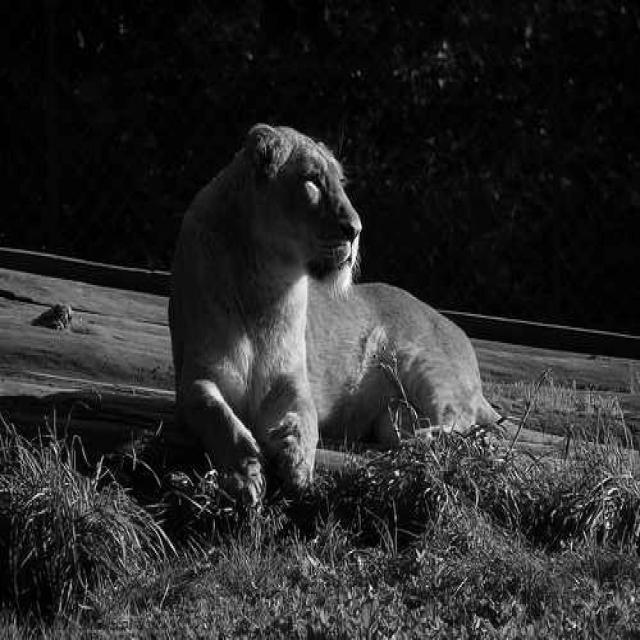Lion: (186, 84, 523, 504)
